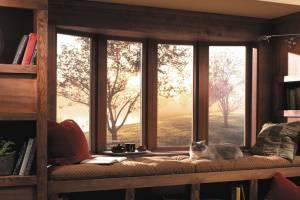window: (56, 24, 252, 148)
